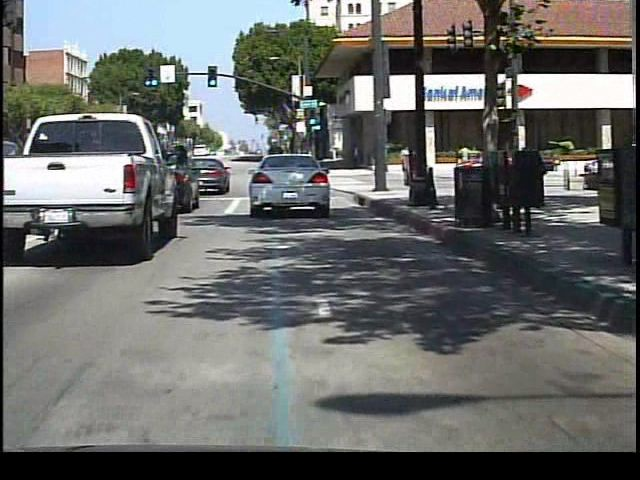person: (454, 139, 474, 175), (398, 142, 415, 177)
